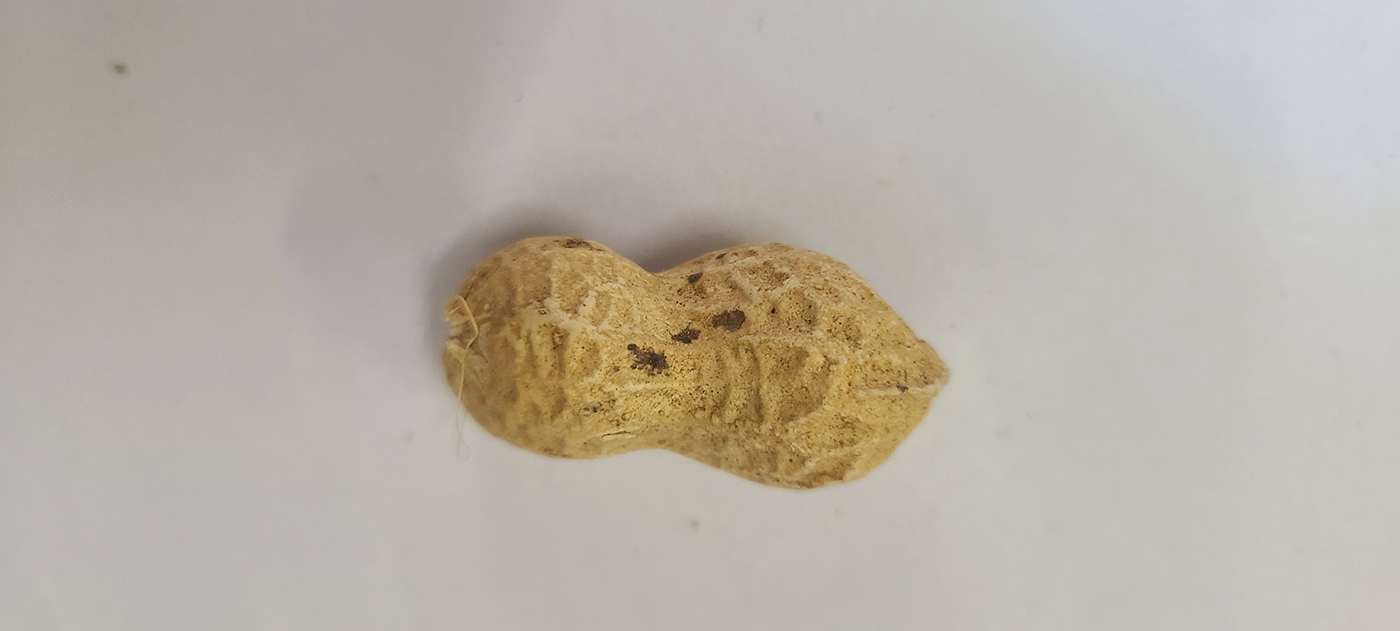h: (443, 231, 949, 492)
